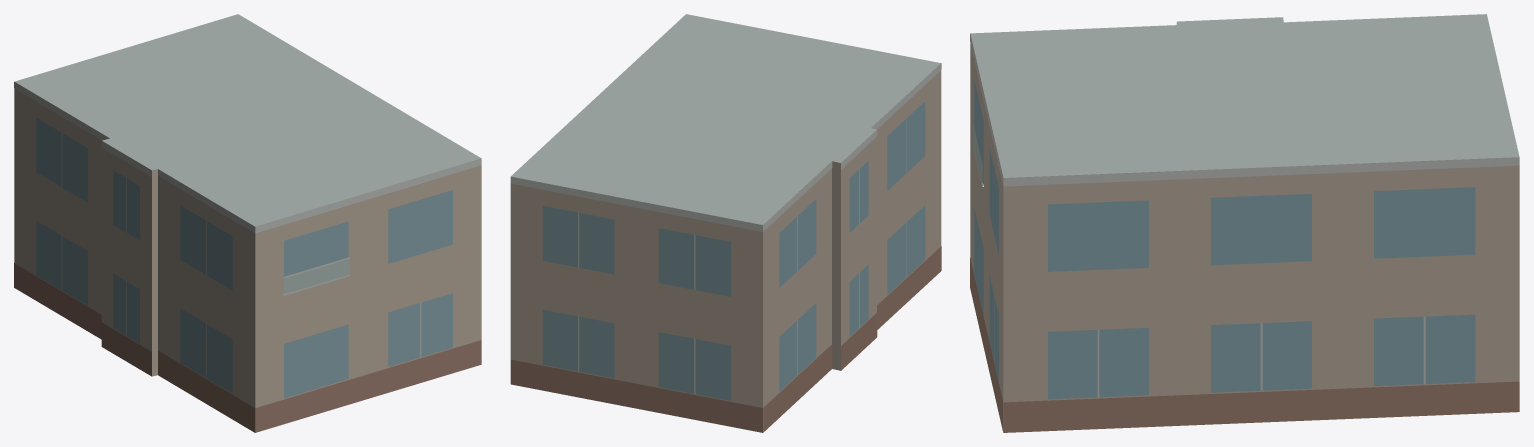
The model's file is survey-upis-32940623.glb.
3 views of the same model, side by side, from view 1: azimuth 30°, elevation 25°; view 2: azimuth 150°, elevation 25°; view 3: azimuth 270°, elevation 25° (orthographic). The views are drawn at different scales.
Parts seen in each view (by area): view 1: survey-upis-32940623.tmp; view 2: survey-upis-32940623.tmp; view 3: survey-upis-32940623.tmp.
Boxes of the visible parts, x1=… form: survey-upis-32940623.tmp: x1=14, y1=14, x2=481, y2=432; survey-upis-32940623.tmp: x1=510, y1=14, x2=941, y2=432; survey-upis-32940623.tmp: x1=970, y1=14, x2=1519, y2=432.
Bounding box in the file's own units: 10.09 × 7.3 × 14.27.
